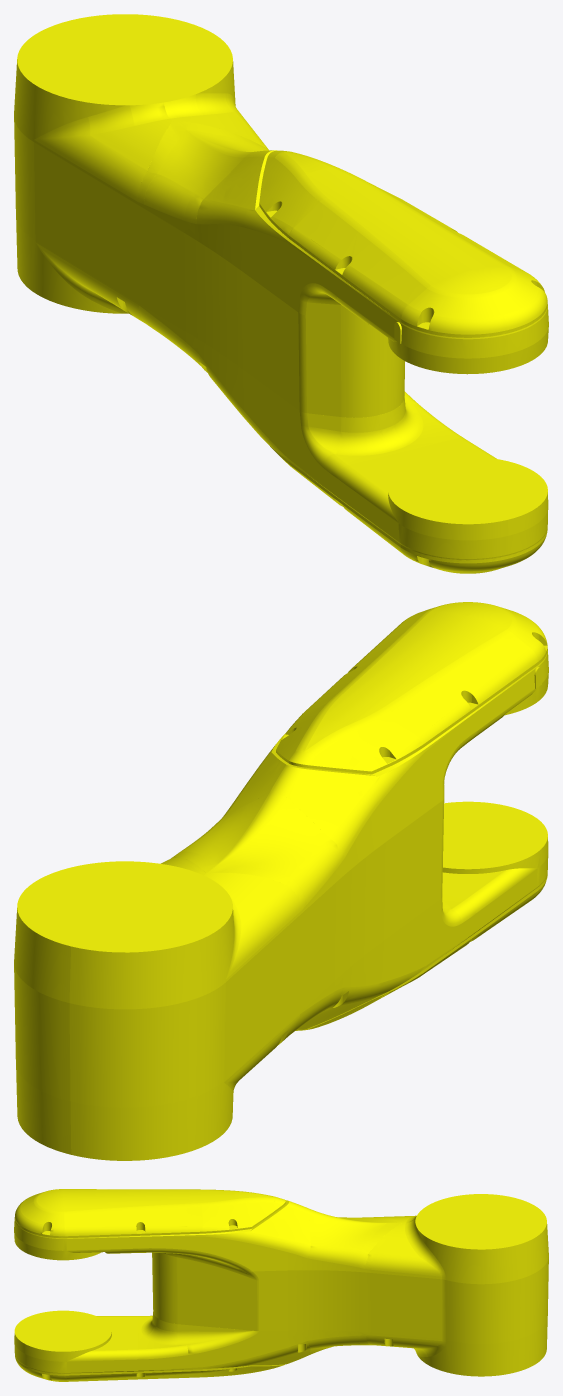
3 renders of one model, top to bottom at view 1: azimuth 30°, elevation 25°; view 2: azimuth 150°, elevation 25°; view 3: azimuth 270°, elevation 25°, orthographic. The views are drawn at different scales.
Parts seen in each view (by area): view 1: Mesh_0; view 2: Mesh_0; view 3: Mesh_0.
Boxes of the visible parts, <box> form: Mesh_0: <box>14,14,548,573</box>; Mesh_0: <box>14,602,548,1160</box>; Mesh_0: <box>14,1189,548,1381</box>.
Size of the model in its own units: 0.1815 by 0.26 by 0.7167.
